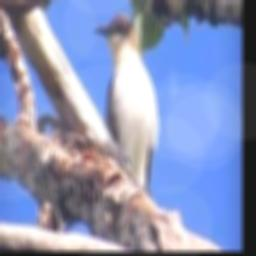Cuckoo: (91, 15, 159, 191)
